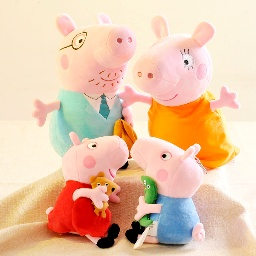Peppa: (45, 132, 131, 250)
